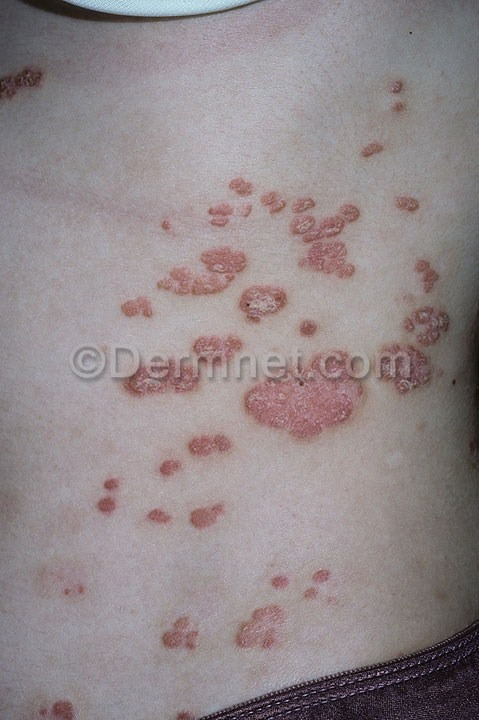Psoriasis: (210, 179, 378, 287), (234, 345, 383, 447), (378, 265, 475, 411), (109, 325, 252, 403), (109, 245, 234, 326), (345, 71, 425, 176), (231, 568, 334, 646), (128, 428, 245, 489), (219, 277, 313, 328), (147, 603, 210, 666), (150, 494, 236, 539), (87, 471, 136, 530), (33, 670, 87, 720), (376, 183, 436, 225)
